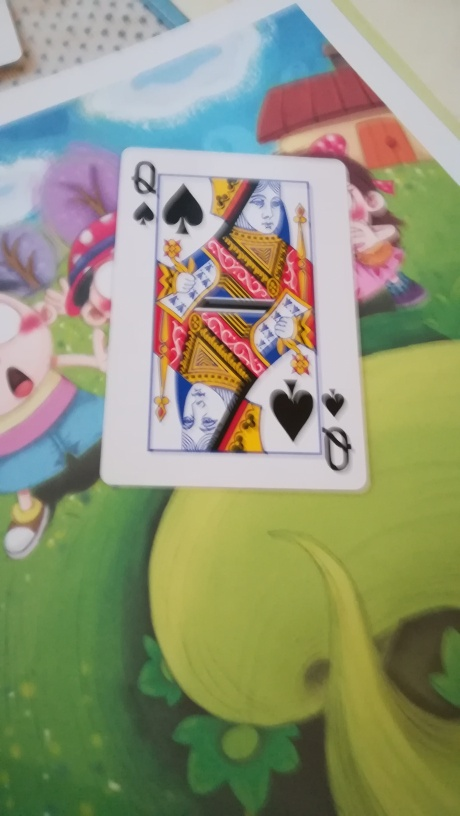ht q: (96, 144, 372, 499)
